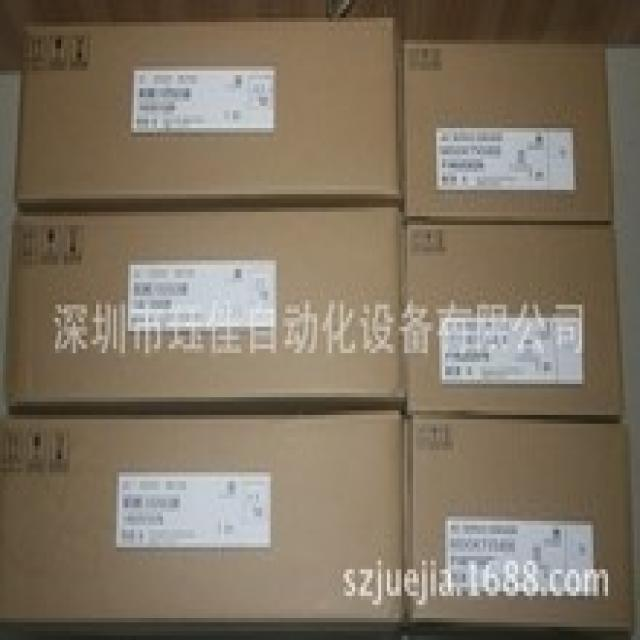box: (0, 409, 402, 636), (10, 209, 403, 408), (16, 17, 397, 210), (399, 412, 632, 635), (403, 223, 622, 421), (403, 42, 608, 220), (1, 1, 338, 65)
